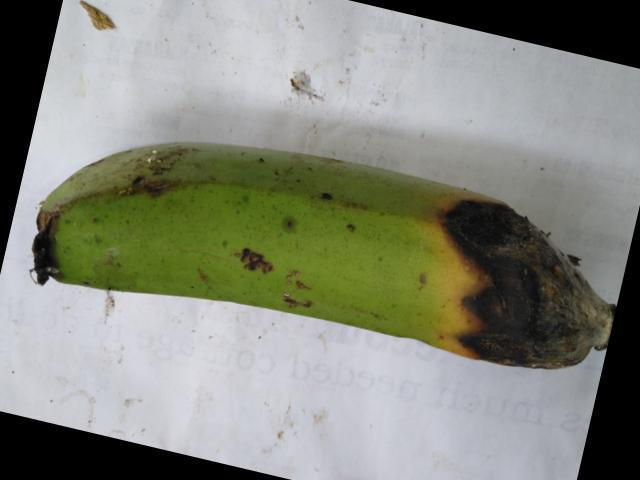rotten: (412, 166, 635, 398), (5, 168, 80, 293), (229, 229, 297, 292)
